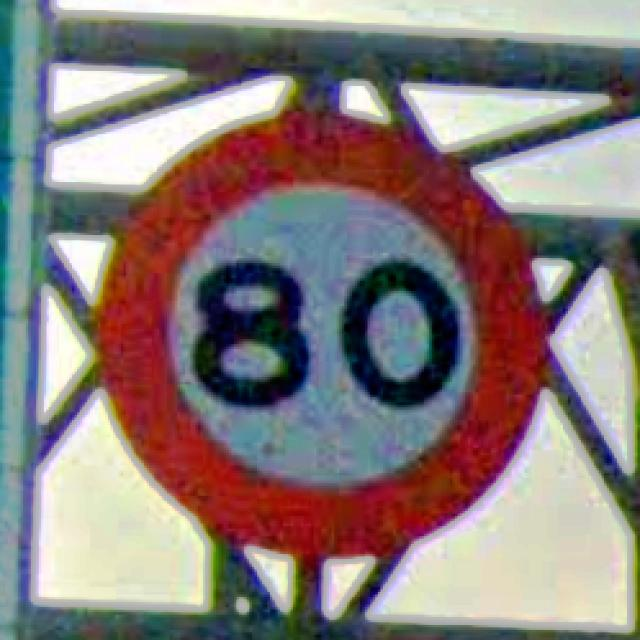max80: (88, 101, 552, 564)
